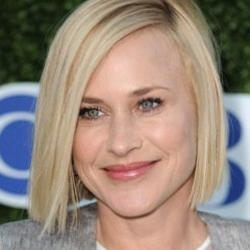face: (17, 1, 237, 231)
